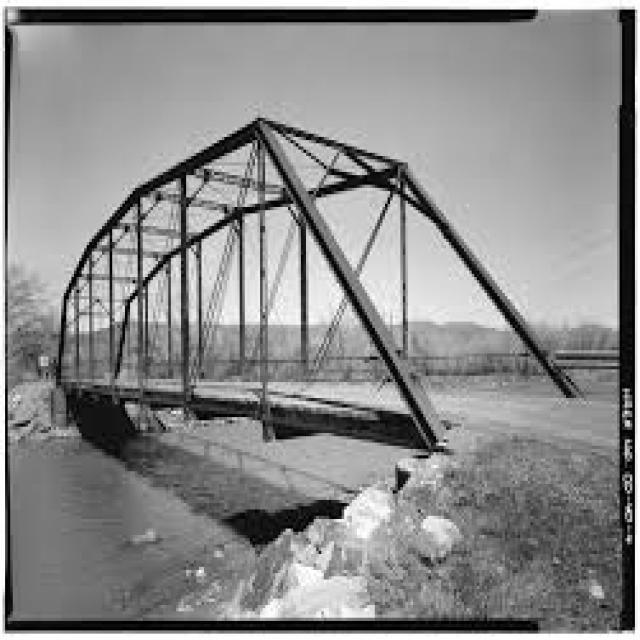Bridges: (50, 89, 595, 493)
